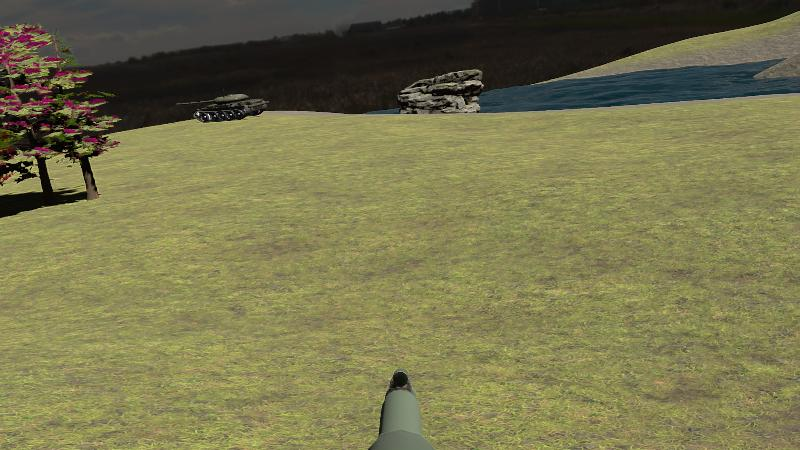Tank: (176, 95, 269, 123)
